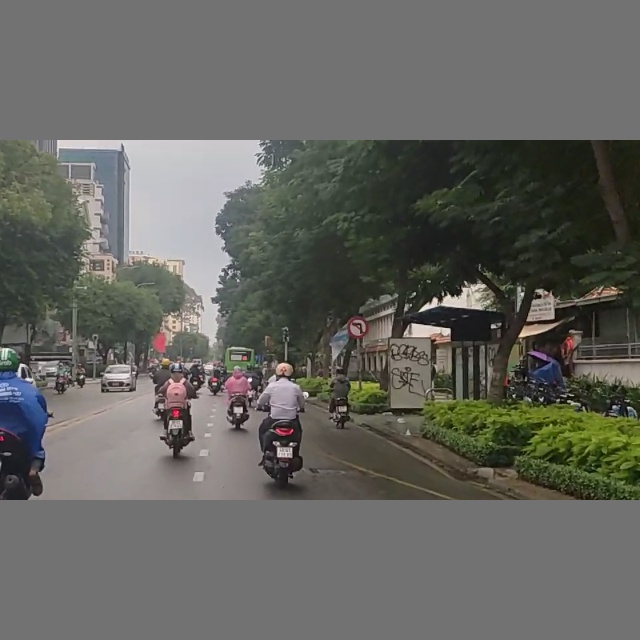P.123a: (348, 317, 368, 339)
